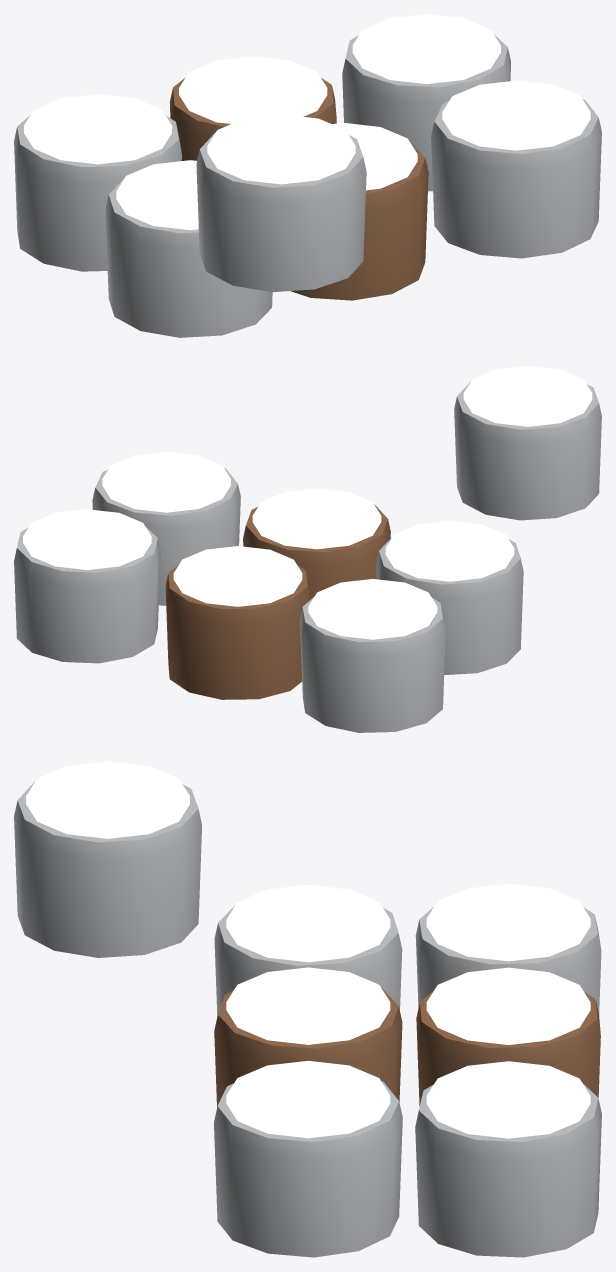
The model's file is fps-survival-forest-outpost-ration-tin-stack-0e22a226__32669.glb.
3 renders of one model, top to bottom at view 1: azimuth 30°, elevation 25°; view 2: azimuth 150°, elevation 25°; view 3: azimuth 270°, elevation 25°, orthographic. The views are drawn at different scales.
Parts seen in each view (by area): view 1: ration-tin-stack; view 2: ration-tin-stack; view 3: ration-tin-stack.
Boxes of the visible parts, x1,y1,x2,y2 form: ration-tin-stack: (14,14,601,337); ration-tin-stack: (14,366,601,732); ration-tin-stack: (14,761,601,1257).
Bounding box in the file's own units: 0.3329 × 0.15 × 0.323.
